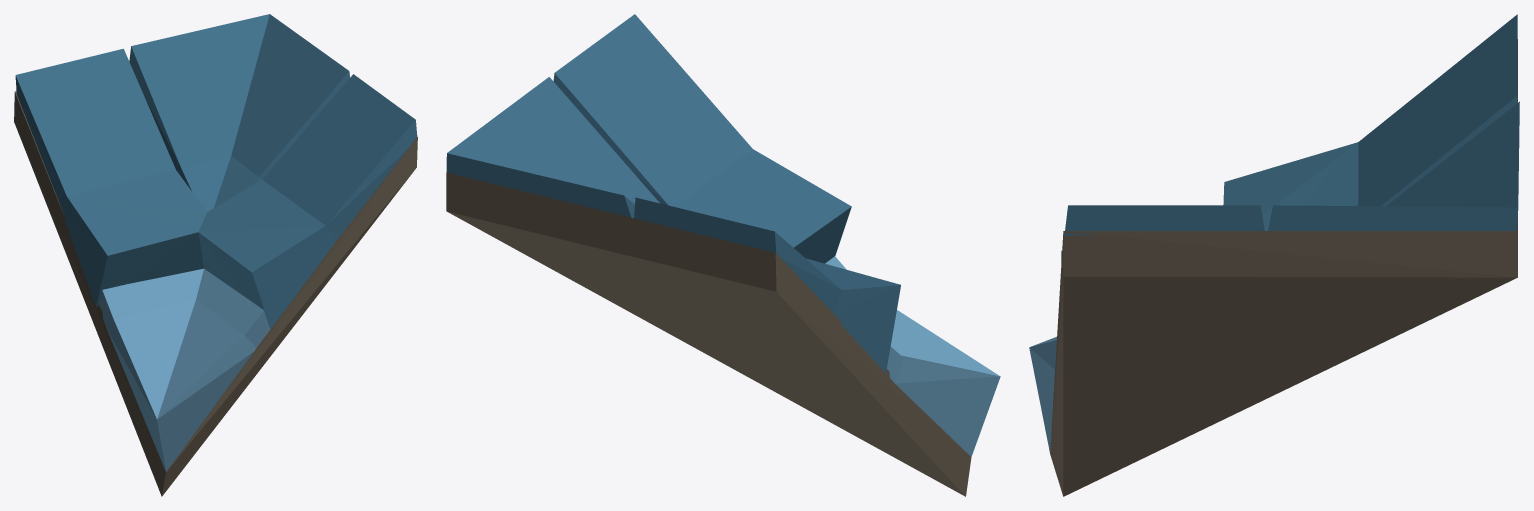
Rendered from ROOF_small_inner_corner_1.fbx.
3 renders of one model, left to right at view 1: azimuth 30°, elevation 25°; view 2: azimuth 150°, elevation 25°; view 3: azimuth 270°, elevation 25°, orthographic. The views are drawn at different scales.
Visible parts, largest first — view 1: ROOF_small_inner_corner_1; view 2: ROOF_small_inner_corner_1; view 3: ROOF_small_inner_corner_1.
Part boxes in pixels (bbox=[...]): ROOF_small_inner_corner_1: bbox=[14, 14, 417, 496]; ROOF_small_inner_corner_1: bbox=[446, 14, 1000, 496]; ROOF_small_inner_corner_1: bbox=[1029, 14, 1519, 496].
Size of the model in its own units: 53.24 by 58.71 by 53.97.
